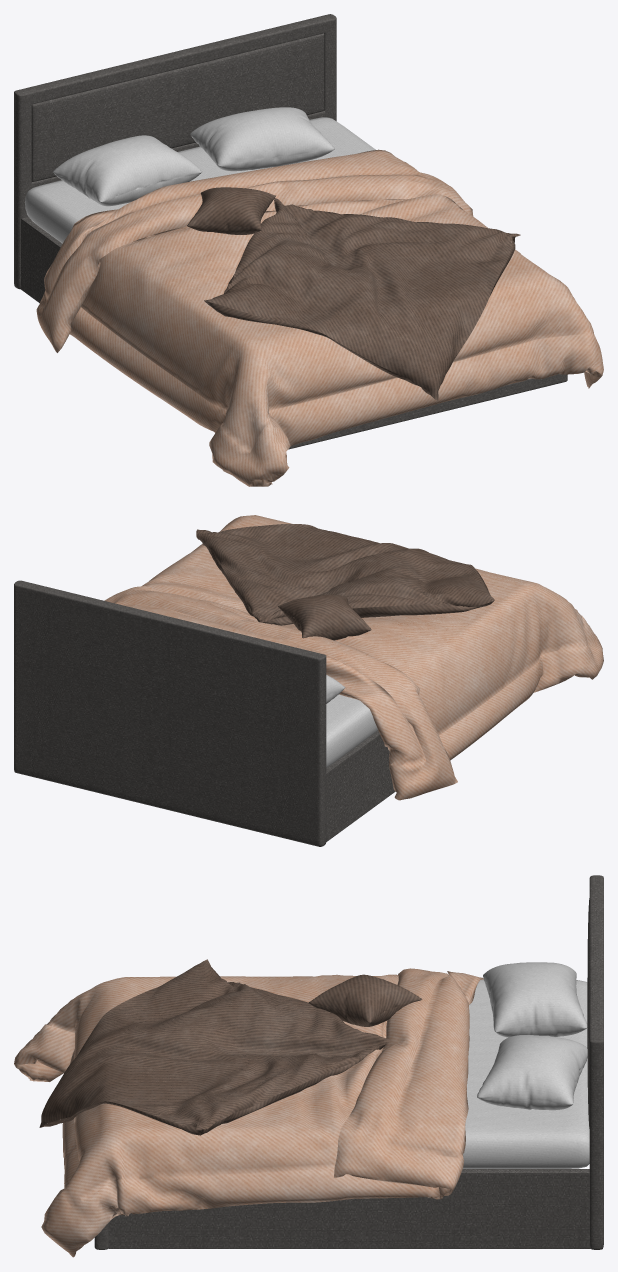
3 views of the same model, one above another, from view 1: azimuth 30°, elevation 25°; view 2: azimuth 150°, elevation 25°; view 3: azimuth 270°, elevation 25° (orthographic). The views are drawn at different scales.
Visible parts, largest first — view 1: bed_04_01; view 2: bed_04_01; view 3: bed_04_01.
Boxes of the visible parts, x1,y1,x2,y2 form: bed_04_01: [14, 14, 603, 486]; bed_04_01: [14, 515, 603, 846]; bed_04_01: [14, 875, 603, 1257].
Bounding box in the file's own units: 2.07 × 0.9879 × 2.48.
1 material, 1 textured.
